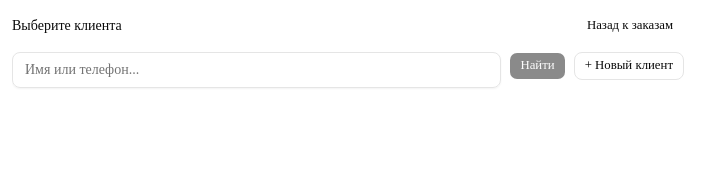
Test: NewOrderClient › shows an empty-state when nothing is found
Type "zzz" into the field with placeholder "Имя или телефон..." at (257, 70), box [12, 52, 502, 88]
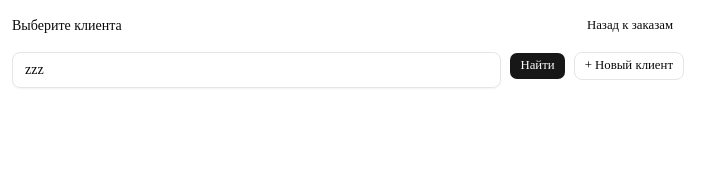
Click the button "Найти" at (538, 66), box [510, 52, 566, 80]
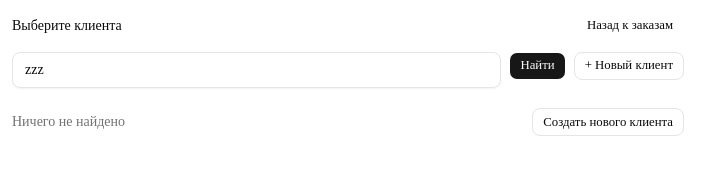
Check: the text "Ничего не найдено" is shown, box [12, 112, 125, 132]
